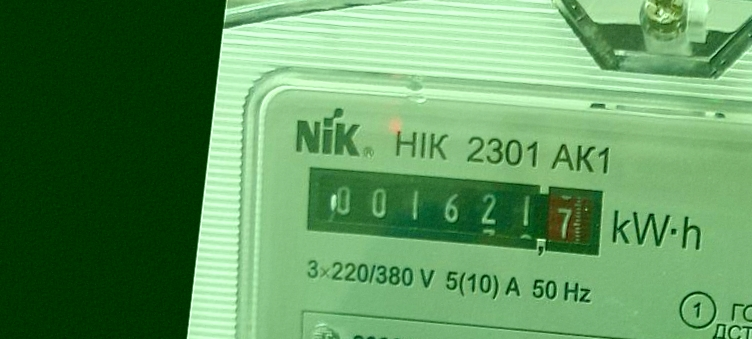0: (366, 183, 392, 222), (331, 181, 355, 217)
1: (517, 190, 535, 229), (406, 185, 424, 223)
2: (477, 190, 502, 228)
6: (440, 189, 463, 225)
7: (551, 203, 575, 241)
screen: (297, 153, 612, 269)
